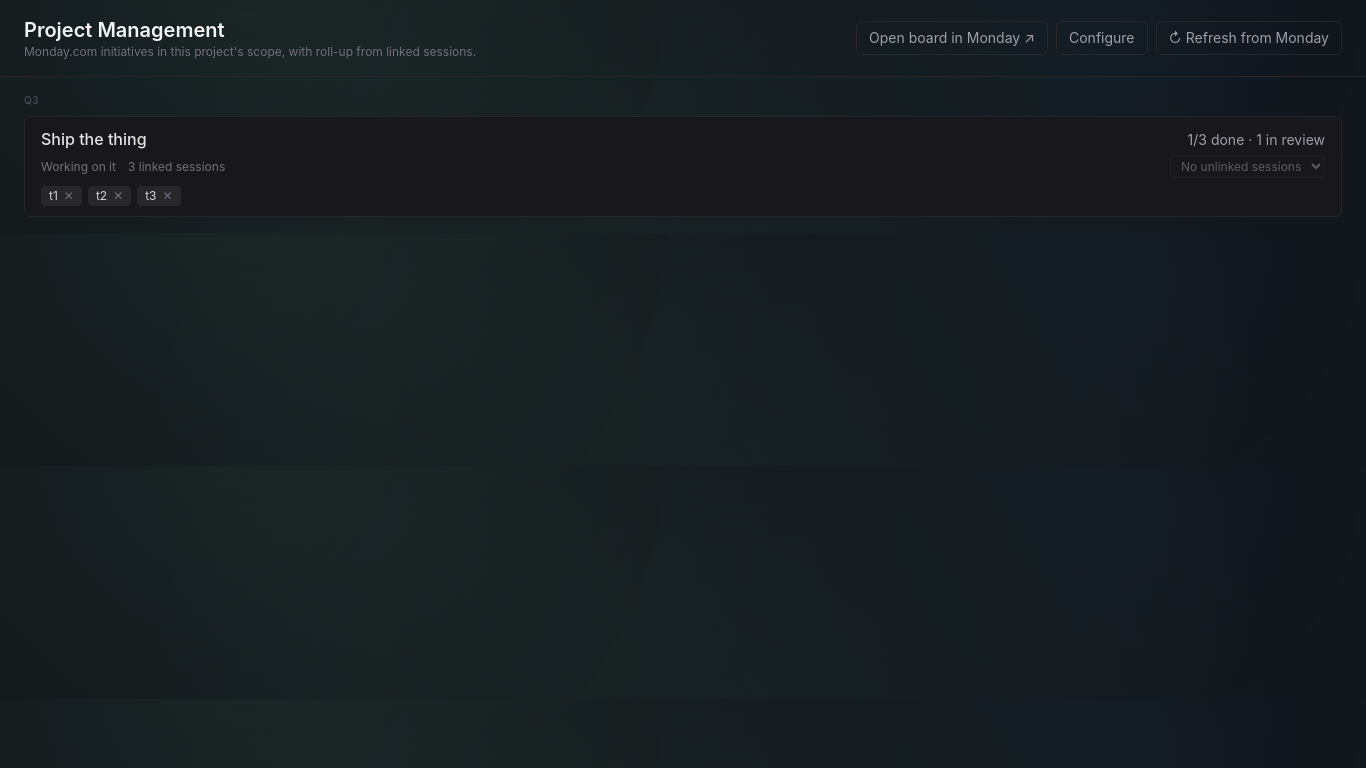
Test: ProjectManagementView › keeps showing items and surfaces an inline error when a refresh fails after a successful load
Expected: the text "Ship the thing" is shown, [41,127,147,151]
Click the button "↻ Refresh from Monday": (1249, 38) [1156,21,1342,55]
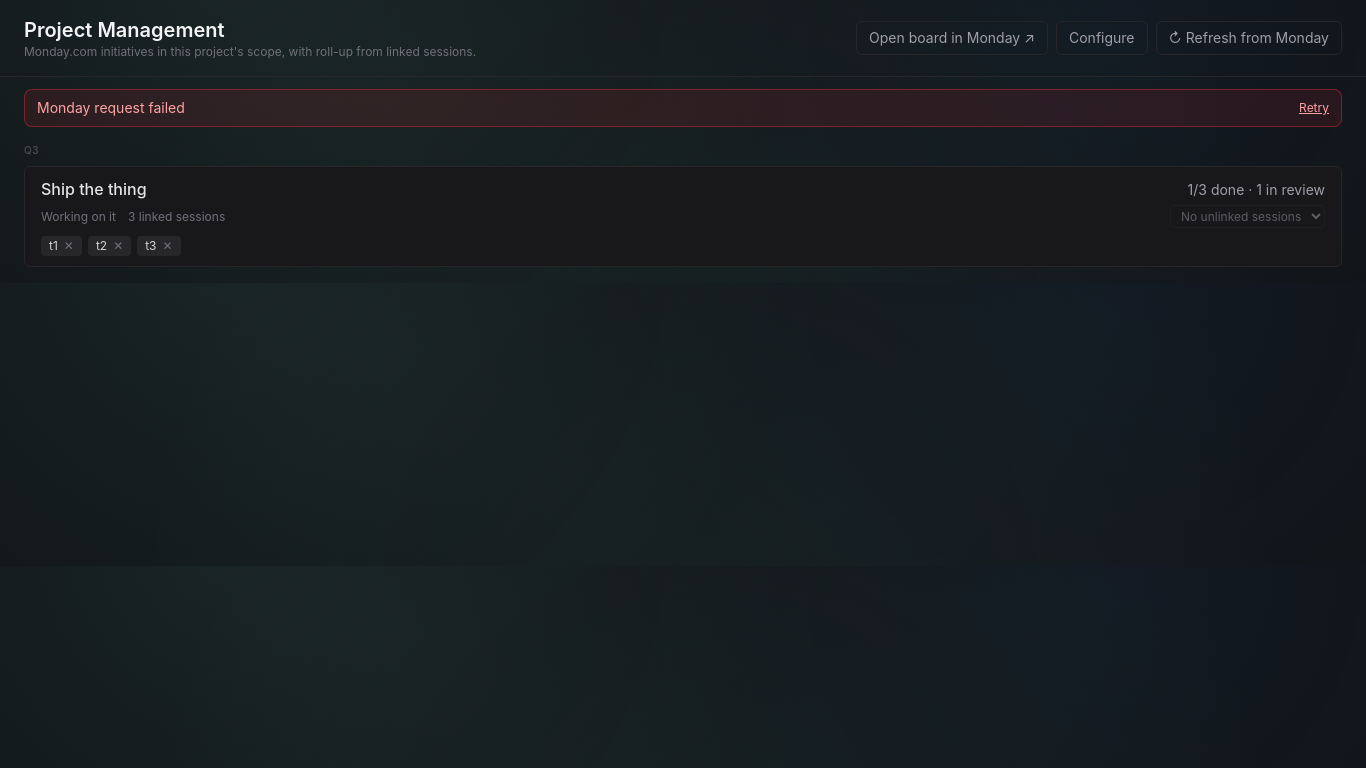
Expected: the text "Ship the thing" is shown, [41,177,147,201]
Expected: the text "Monday request failed" is shown, [37,98,185,118]
